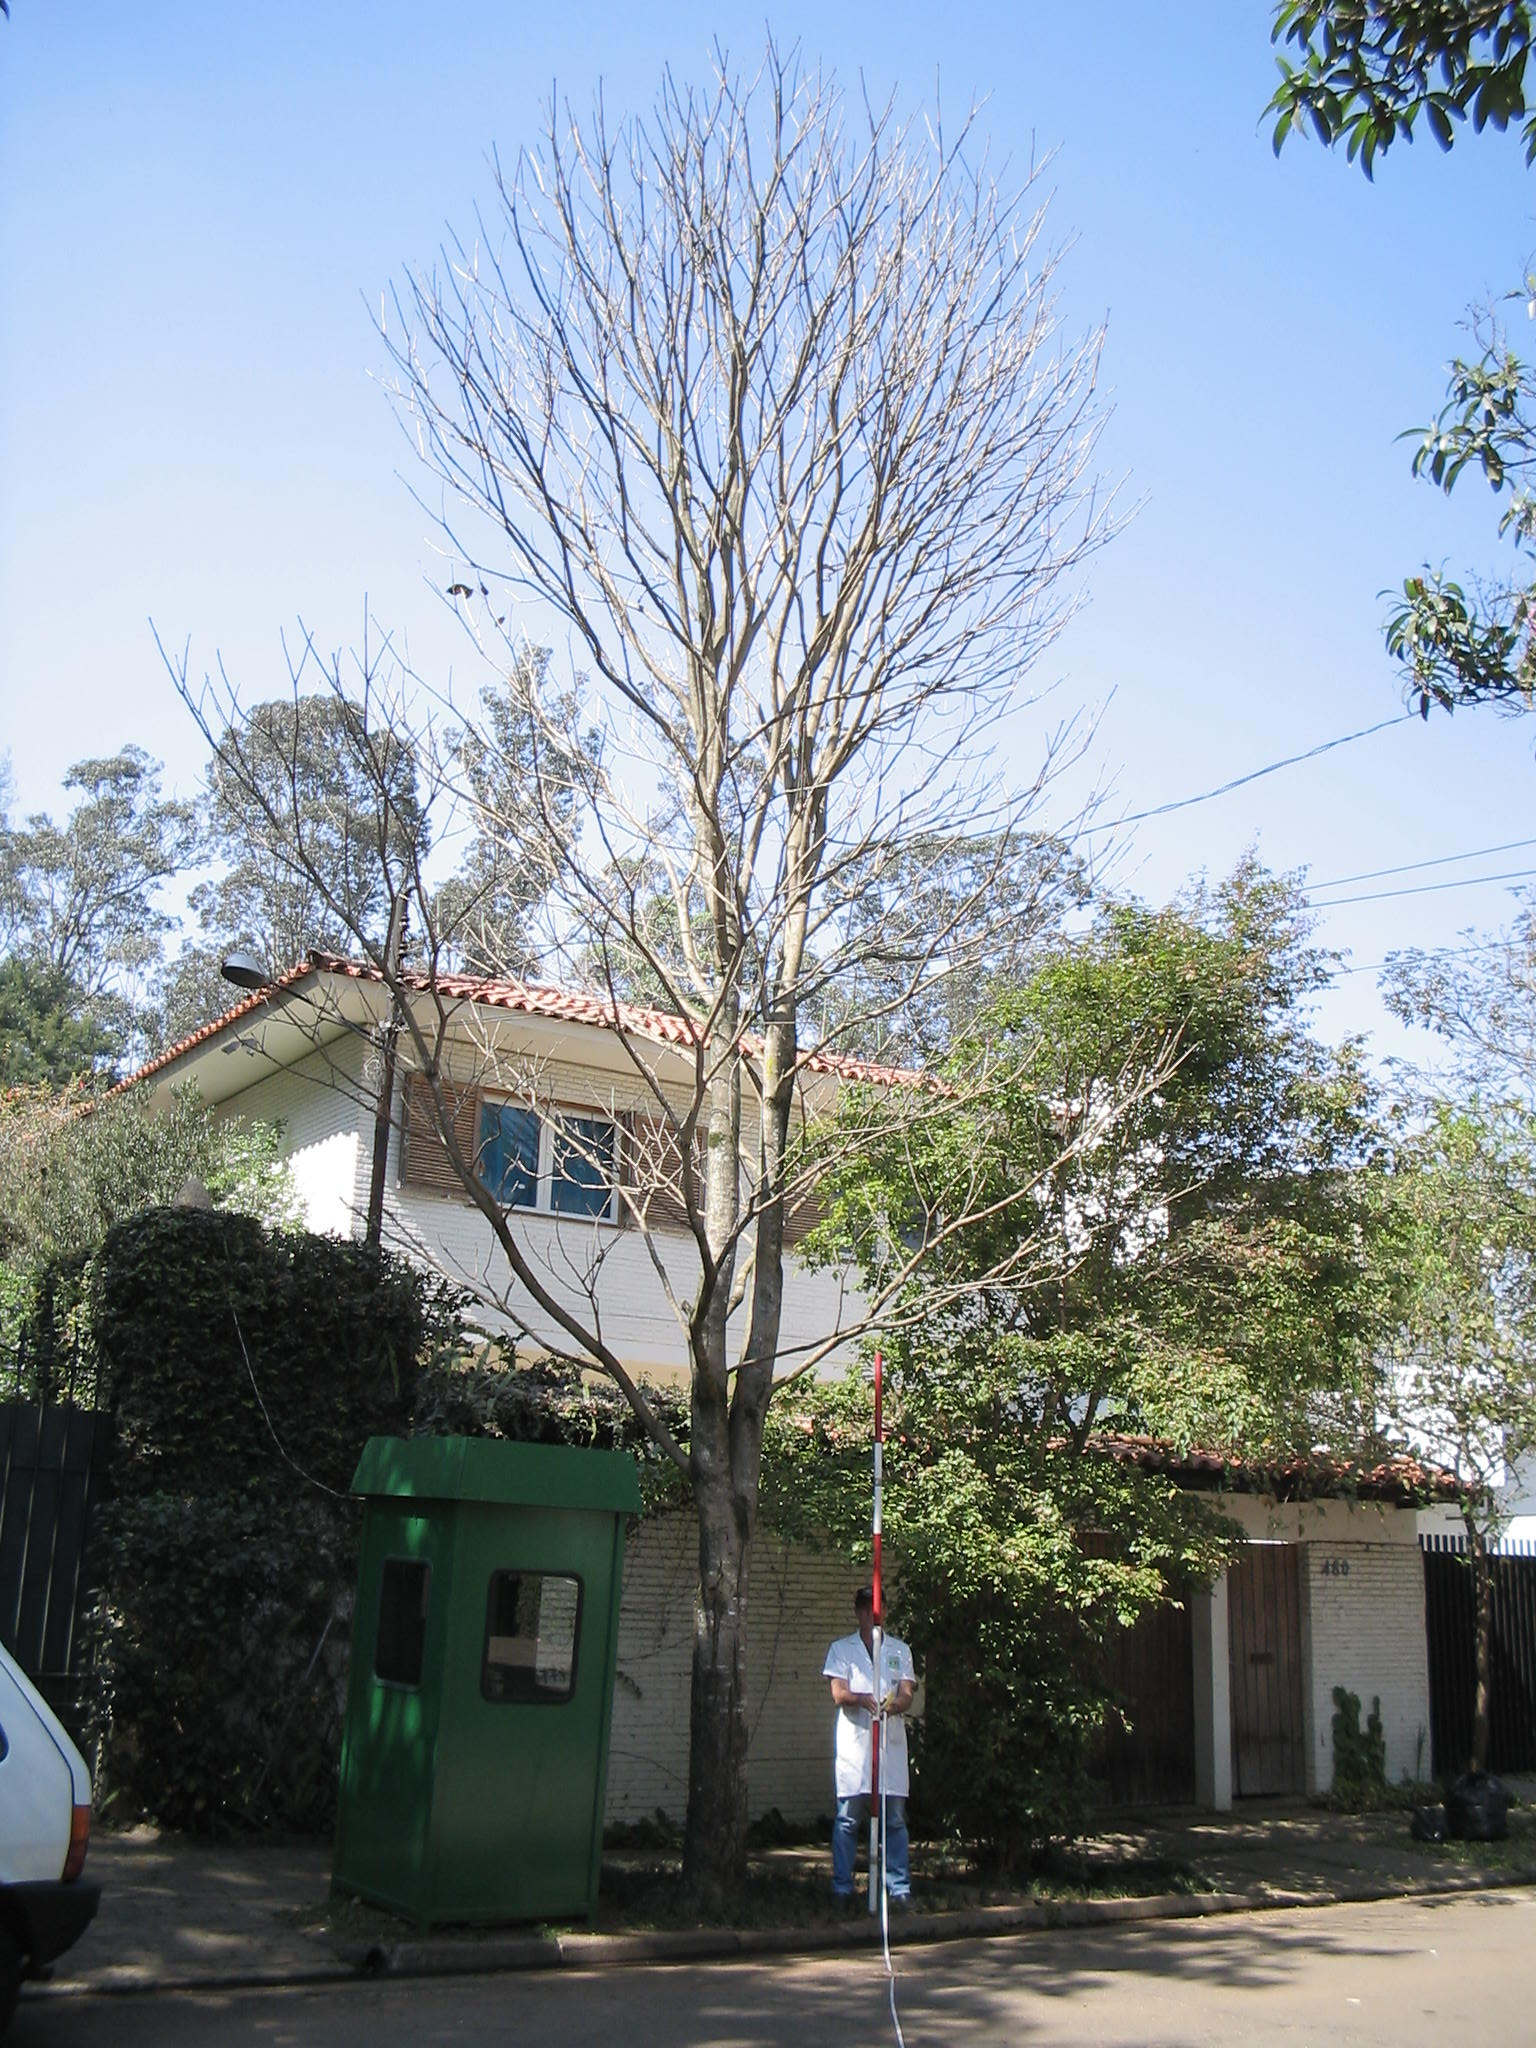stem: (650, 1476, 799, 1911)
stick: (836, 1350, 915, 1917)
tree: (152, 16, 1208, 1916)
